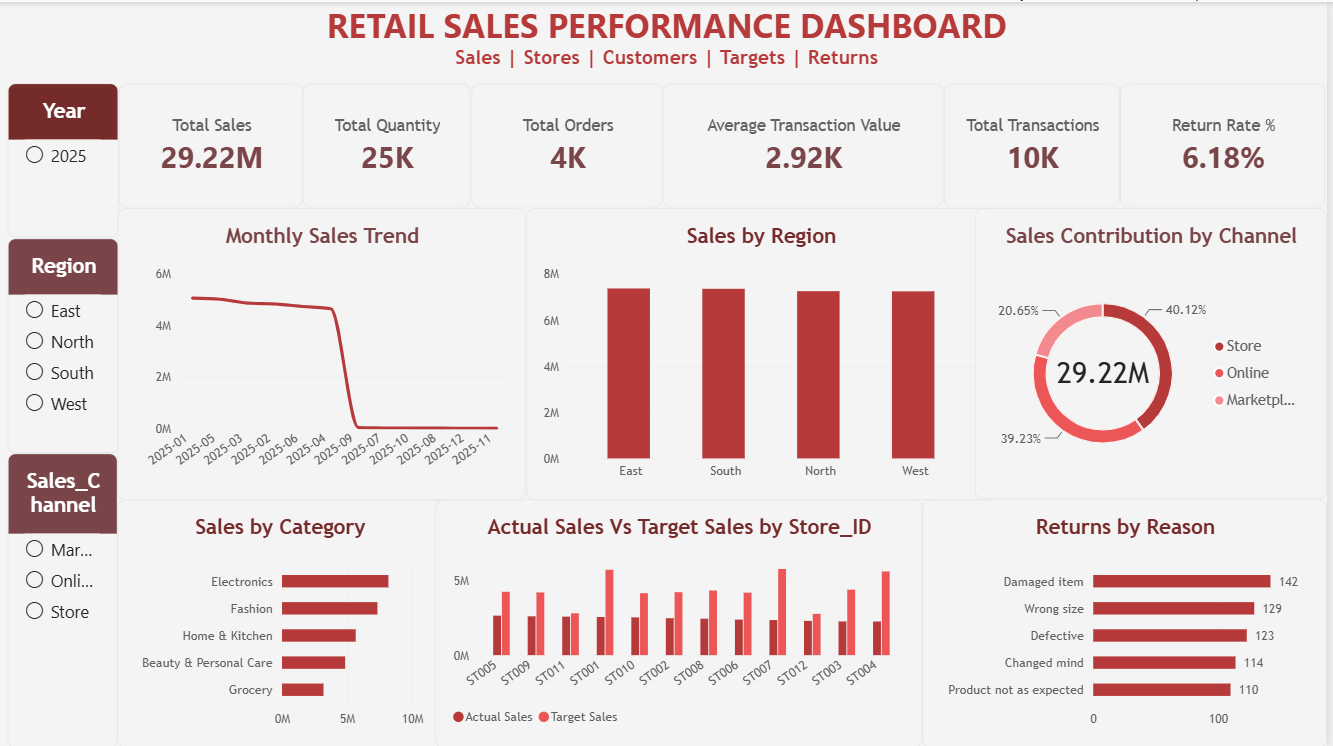

This screenshot's page, from the dashboard's own definition file:
{"tool":"powerbi","page":{"name":"Page 1","canvas":[1280,720],"ordinal":0},"visuals":[{"type":"cardVisual","fields":{"Data":["Retail_Transactions.Total Sales"]},"box":[115,78.8,178.8,120],"z":0},{"type":"cardVisual","fields":{"Data":["Retail_Transactions.Total Orders"]},"box":[455,78.8,185,120],"z":1000},{"type":"cardVisual","fields":{"Data":["Retail_Transactions.Total Transactions"]},"box":[911.2,78.8,170,120],"z":2000},{"type":"cardVisual","fields":{"Data":["Retail_Transactions.Total Quantity"]},"box":[292.5,78.8,162.5,120],"z":3000},{"type":"cardVisual","fields":{"Data":["Retail_Transactions.Average Transaction Value"]},"box":[640,78.8,271.2,120],"z":4000},{"type":"cardVisual","fields":{"Data":["Returns.Return Rate %"]},"box":[1081.2,78.8,198.8,120],"z":5000},{"type":"lineChart","title":"Monthly Sales Trend","fields":{"Category":["DateTable.Year Month"],"Y":["Retail_Transactions.Total Sales"]},"box":[113.8,198.8,393.8,281.2],"z":6000},{"type":"clusteredColumnChart","title":"Sales by Region","fields":{"Category":["Retail_Transactions.Region"],"Y":["Retail_Transactions.Total Sales"]},"box":[507.5,198.8,452.5,281.2],"z":7000},{"type":"clusteredBarChart","title":"Sales by Category","fields":{"Category":["Products.Category"],"Y":["Retail_Transactions.Total Sales"]},"box":[113.8,480,312.5,240],"z":8000},{"type":"clusteredColumnChart","title":"Actual Sales Vs Target Sales by Store_ID","fields":{"Y":["Sales_Targets.Actual Sales","Sales_Targets.Target Sales"],"Category":["Stores.Store_ID"]},"box":[420,480,470,240],"z":9000},{"type":"donutChart","title":"Sales Contribution by Channel","fields":{"Category":["Retail_Transactions.Sales_Channel"],"Y":["Retail_Transactions.Total Sales"]},"box":[960,198.8,320,281.2],"z":10000},{"type":"clusteredBarChart","title":"Returns by Reason","fields":{"Category":["Returns.Return_Reason"],"Y":["Returns.Total Returns"]},"box":[890,480,390,240],"z":11000},{"type":"listSlicer","fields":{"Values":["DateTable.Year"]},"box":[7.5,78.8,107.5,148.8],"z":12000},{"type":"listSlicer","fields":{"Values":["Retail_Transactions.Region"]},"box":[7.5,227.5,107.5,207.5],"z":13000},{"type":"listSlicer","fields":{"Values":["Retail_Transactions.Sales_Channel"]},"box":[7.5,435,106.2,285],"z":14000},{"type":"textbox","box":[7.5,0,1272.5,78.8],"z":15000}]}

Visuals, with their boxes in screenshot pixels (x1, y1, x2, y2), scaled from the page's 1280x720 canvas onto the 1333x746 screenshot:
cardVisual - Retail_Transactions.Total Sales: (120, 82, 306, 206)
cardVisual - Retail_Transactions.Total Orders: (474, 82, 666, 206)
cardVisual - Retail_Transactions.Total Transactions: (949, 82, 1126, 206)
cardVisual - Retail_Transactions.Total Quantity: (305, 82, 474, 206)
cardVisual - Retail_Transactions.Average Transaction Value: (666, 82, 949, 206)
cardVisual - Returns.Return Rate %: (1126, 82, 1332, 206)
"Monthly Sales Trend" lineChart: (119, 206, 529, 497)
"Sales by Region" clusteredColumnChart: (529, 206, 1000, 497)
"Sales by Category" clusteredBarChart: (119, 497, 444, 745)
"Actual Sales Vs Target Sales by Store_ID" clusteredColumnChart: (437, 497, 927, 745)
"Sales Contribution by Channel" donutChart: (1000, 206, 1332, 497)
"Returns by Reason" clusteredBarChart: (927, 497, 1332, 745)
listSlicer - DateTable.Year: (8, 82, 120, 236)
listSlicer - Retail_Transactions.Region: (8, 236, 120, 451)
listSlicer - Retail_Transactions.Sales_Channel: (8, 451, 118, 745)
textbox: (8, 0, 1332, 82)
